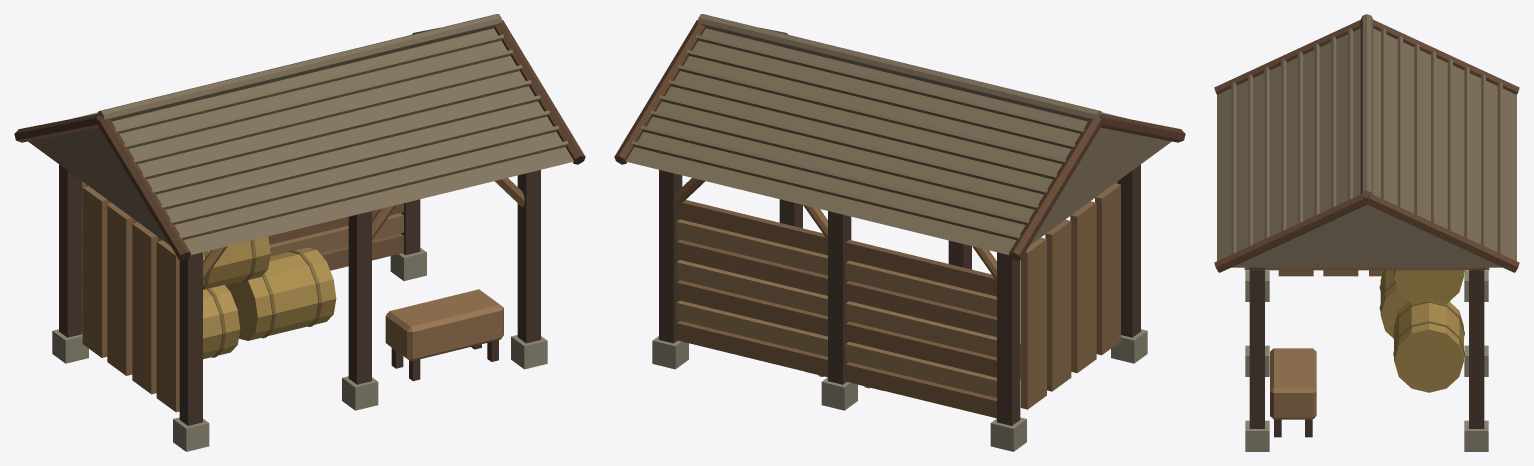
File: pasture-shelter.glb
3 renders of one model, left to right at view 1: azimuth 30°, elevation 25°; view 2: azimuth 150°, elevation 25°; view 3: azimuth 270°, elevation 25°, orthographic. The views are drawn at different scales.
Parts seen in each view (by area): view 1: SculptedModel; view 2: SculptedModel; view 3: SculptedModel.
Part boxes in pixels (box(x1,y1,x2,y2)): SculptedModel: box(14, 14, 585, 451); SculptedModel: box(614, 14, 1185, 451); SculptedModel: box(1214, 14, 1519, 451).
Size of the model in its own units: 4.38 by 3.07 by 3.15.
